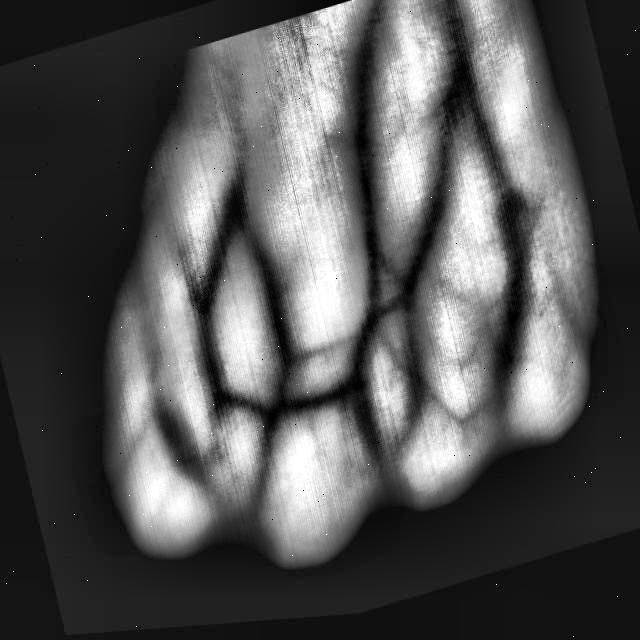Vein: (346, 46, 390, 345)
